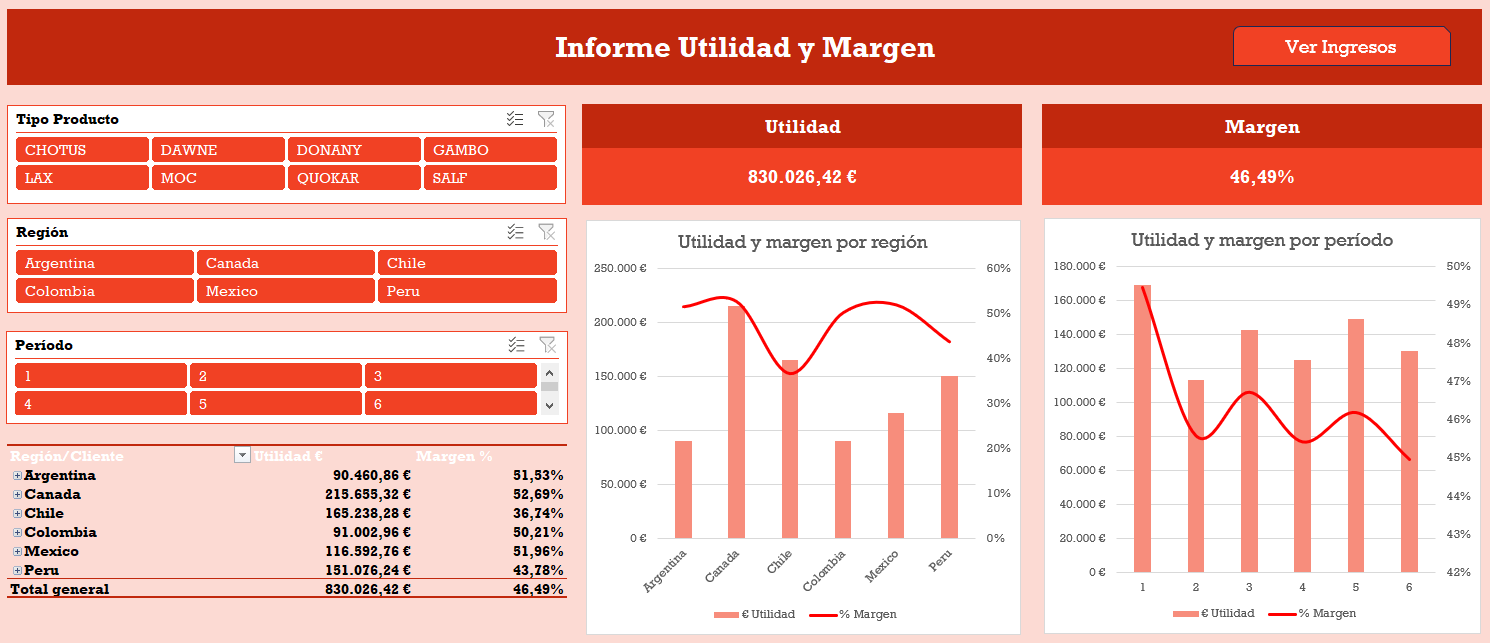

What the dashboard file says about the page in this screenshot:
{"tool":"powerbi","page":{"name":"Informe Utilidad_v2","canvas":[1280,720],"ordinal":6},"visuals":[{"type":"shape","box":[0,0,1280.2,63],"z":0},{"type":"textbox","box":[357.8,0,654.8,63],"z":1},{"type":"card","title":"Utilidad","fields":{"Values":["TablaFinanzas.Utilidad"]},"box":[688.5,81,275.6,159.8],"z":2},{"type":"card","title":"Margen","fields":{"Values":["TablaFinanzas.Margen"]},"box":[984.4,81,275.6,159.8],"z":3},{"type":"lineStackedColumnComboChart","title":"Utilidad y Margen por País","fields":{"Y2":["TablaFinanzas.Margen"],"Y":["TablaFinanzas.Utilidad"],"Category":["LookupsCliente.Region"]},"box":[858.4,255.4,408.4,448.9],"z":4},{"type":"lineStackedColumnComboChart","fields":{"Y2":["TablaFinanzas.Margen"],"Y":["TablaFinanzas.Utilidad"],"Category":["TablaFinanzas.Período"]},"box":[435.4,255.4,408.4,448.9],"z":5},{"type":"pivotTable","fields":{"Rows":["LookupsCliente.Region","TablaFinanzas.Cliente"],"Values":["TablaFinanzas.Utilidad","TablaFinanzas.Margen"]},"box":[18,372.4,406.1,331.9],"z":6},{"type":"slicer","title":"Tipo de Producto","fields":{"Values":["LookupsProducto.Tipo de Producto"]},"box":[25.9,72,605.2,159.8],"z":7},{"type":"slicer","title":"País","fields":{"Values":["LookupsCliente.Region"]},"box":[18,255.4,203.6,104.6],"z":8},{"type":"slicer","title":"Período","fields":{"Values":["TablaFinanzas.Período"]},"box":[226.1,255.4,203.6,104.6],"z":9},{"type":"actionButton","box":[25.9,10.1,163.1,42.8],"z":10},{"type":"actionButton","box":[1096.9,10.1,163.1,42.8],"z":11}]}

Visuals, with their boxes on the page's 1280x720 design canvas (x1, y1, x2, y2). These are canvas units, not pixel positions in the 1490x643 screenshot, which may show the page scaled, cropped or inside an application window:
shape: 0 0 1280 63
textbox: 358 0 1013 63
"Utilidad" card: 688 81 964 241
"Margen" card: 984 81 1260 241
"Utilidad y Margen por País" lineStackedColumnComboChart: 858 255 1267 704
lineStackedColumnComboChart - TablaFinanzas.Margen x TablaFinanzas.Utilidad: 435 255 844 704
pivotTable - LookupsCliente.Region x TablaFinanzas.Cliente: 18 372 424 704
"Tipo de Producto" slicer: 26 72 631 232
"País" slicer: 18 255 222 360
"Período" slicer: 226 255 430 360
actionButton: 26 10 189 53
actionButton: 1097 10 1260 53
